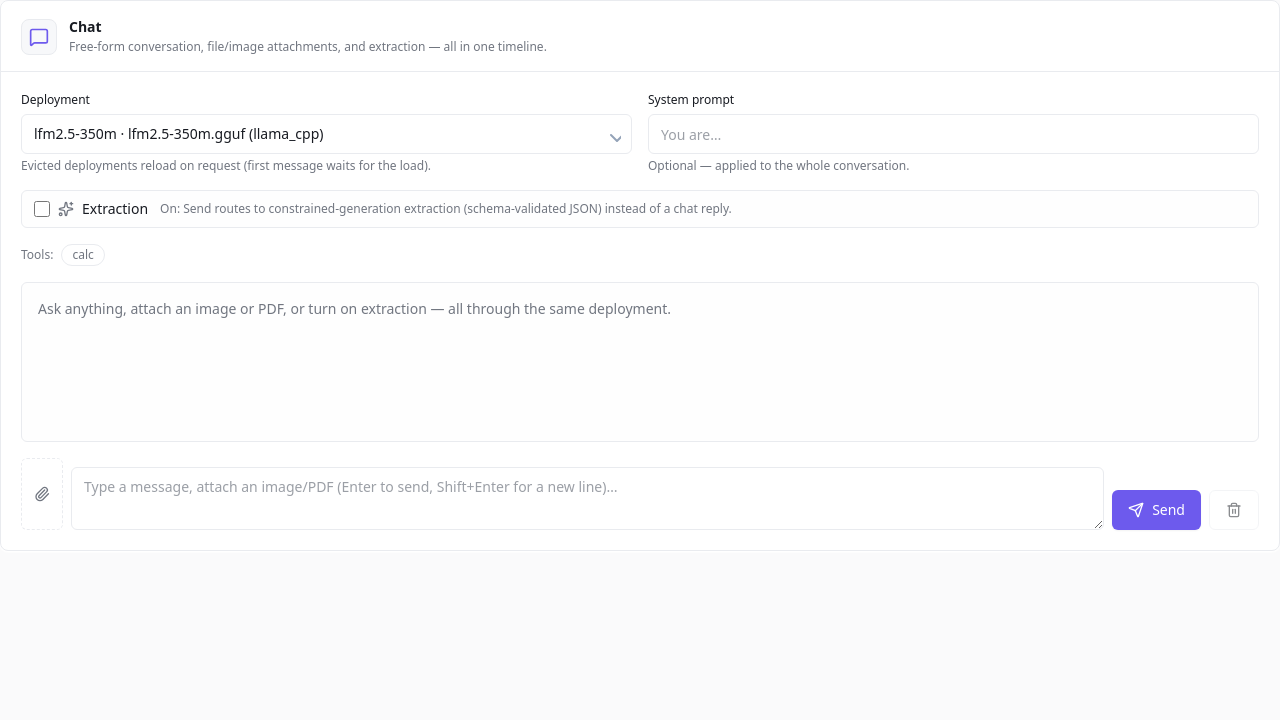
it: ChatPanel › hides MCP tool chips while extraction is on
Expected: the text "Tools:" is shown, [21,247,53,263]
Click the checkbox at (42, 209), box [34,201,50,217]
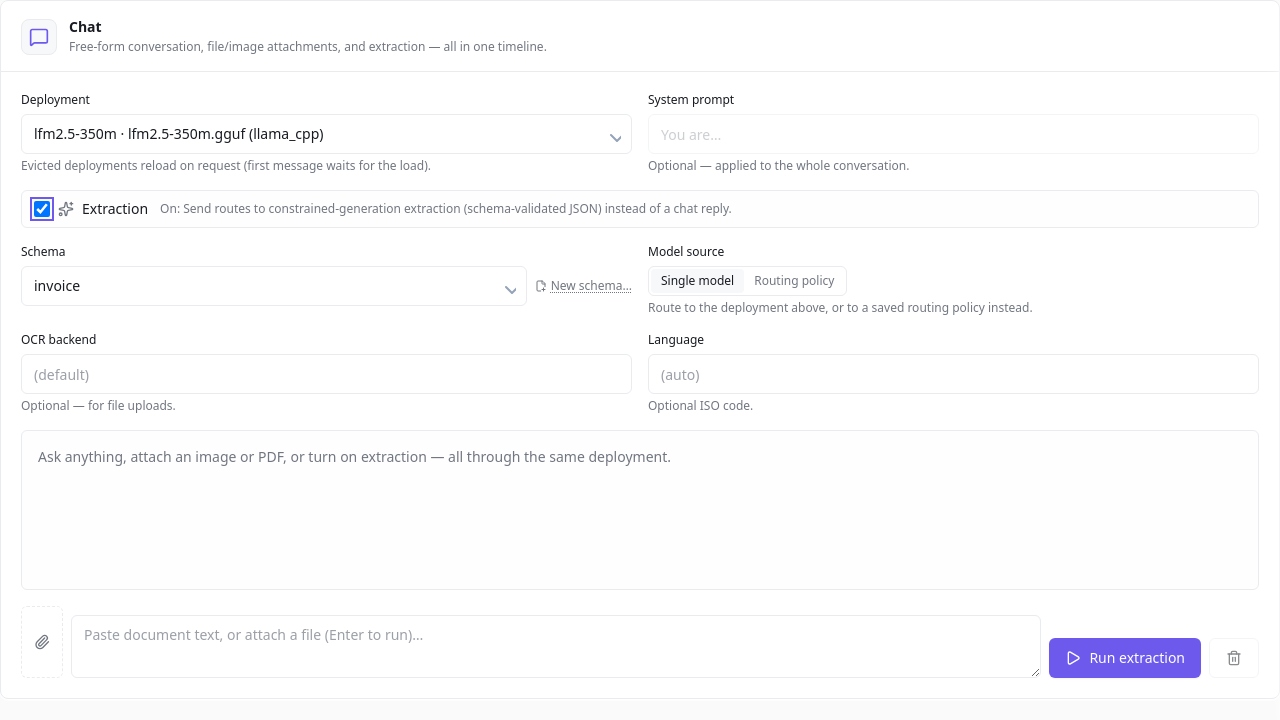
Expected: the text "Tools:" is gone
